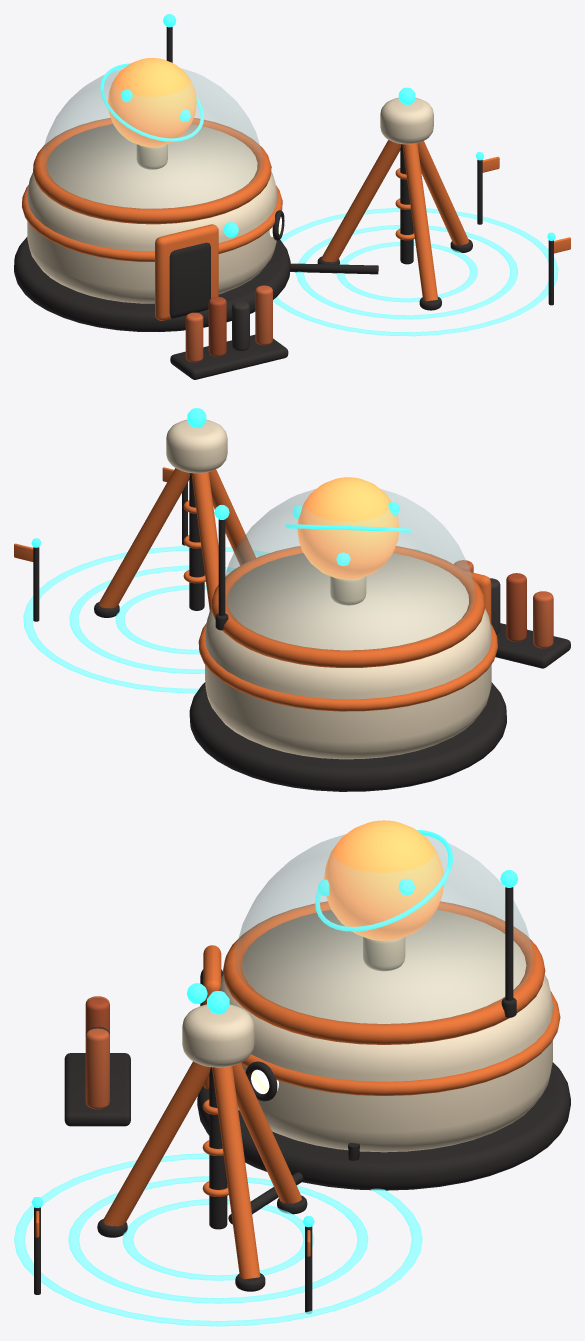
Rendered from geolocator-2.glb.
3 views of the same model, one above another, from view 1: azimuth 30°, elevation 25°; view 2: azimuth 150°, elevation 25°; view 3: azimuth 270°, elevation 25° (orthographic). The views are drawn at different scales.
Visible parts, largest first — view 1: Sphere.007, Cylinder.006, Cylinder.008, Cylinder.005, Torus.009, Sphere.002, Cube.001, Torus.002, Cube, pipe.002, Torus.006, Cube.002 (+13 smaller); view 2: Sphere.007, Cylinder.006, Cylinder.008, Cylinder.005, Sphere.002, Torus.009, Torus.006, pipe, Cylinder.003, Torus.002, pipe.001, Cube.002 (+11 smaller); view 3: Sphere.007, Cylinder.006, Cylinder.008, Cylinder.005, Sphere.002, Torus.009, Torus.002, Torus.006, pipe, Torus.001, pipe.002, Cylinder.003 (+11 smaller).
Part boxes in pixels (box(x1,y1,x2,y2)): Sphere.007: box(42, 68, 262, 208); Cylinder.006: box(27, 172, 277, 303); Cylinder.008: box(47, 124, 257, 208); Cylinder.005: box(14, 237, 290, 331); Torus.009: box(33, 118, 271, 224); Sphere.002: box(108, 58, 196, 147); Cube.001: box(169, 242, 210, 318); Torus.002: box(273, 208, 558, 336); Cube: box(155, 224, 218, 320); pipe.002: box(402, 143, 437, 301); Torus.006: box(22, 185, 282, 261); Cube.002: box(170, 334, 288, 379); Sphere.007: box(225, 489, 474, 650); Cylinder.006: box(205, 608, 491, 759); Cylinder.008: box(227, 553, 468, 650); Cylinder.005: box(189, 682, 506, 791); Sphere.002: box(297, 477, 399, 579); Torus.009: box(211, 546, 485, 667); Torus.006: box(198, 623, 497, 711); pipe: box(99, 468, 190, 608); Cylinder.003: box(166, 419, 227, 473); Torus.002: box(23, 546, 268, 693); pipe.001: box(191, 472, 218, 610); Cube.002: box(495, 623, 570, 668); Sphere.007: box(234, 834, 533, 1024); Cylinder.006: box(218, 974, 552, 1152); Cylinder.008: box(242, 910, 526, 1023); Cylinder.005: box(197, 1062, 570, 1190); Sphere.002: box(324, 820, 443, 940); Torus.009: box(223, 901, 545, 1044); Torus.002: box(14, 1153, 422, 1326); Torus.006: box(241, 991, 560, 1095); pipe: box(212, 1066, 260, 1279); Torus.001: box(68, 1176, 368, 1303); pipe.002: box(103, 1061, 210, 1226); Cylinder.003: box(182, 1004, 254, 1067).
Size of the model in its own units: 2.3 by 1.06 by 1.85.
